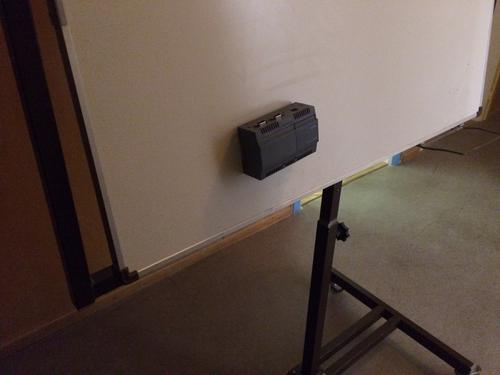iot2000: (236, 100, 319, 181)
